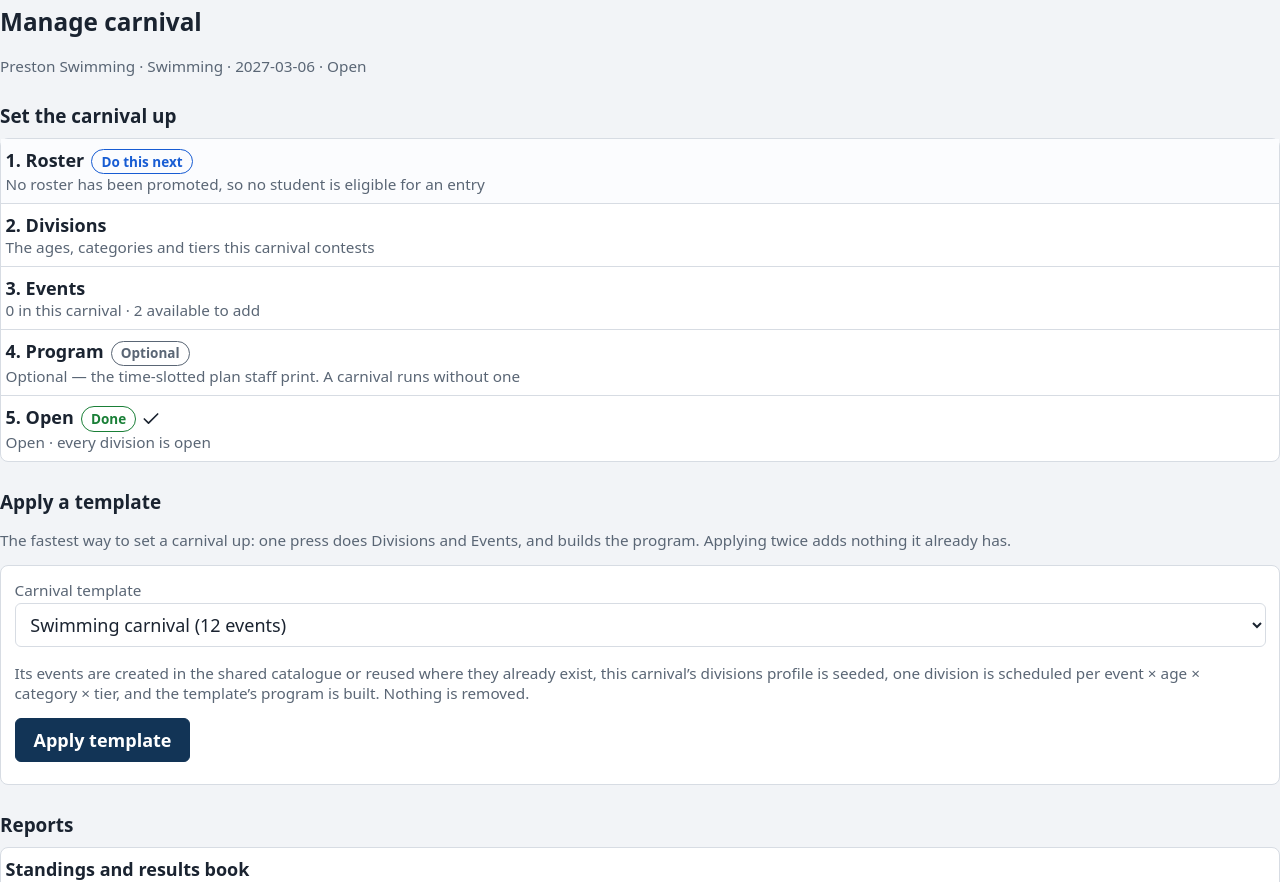
Test case: ManageScreen › applies the chosen template to the carnival and reports what it did
Expected: the dropdown labelled "Carnival template" is shown, [14,603,1266,647]
Click the button "Apply template": (102, 740) [14,718,190,762]
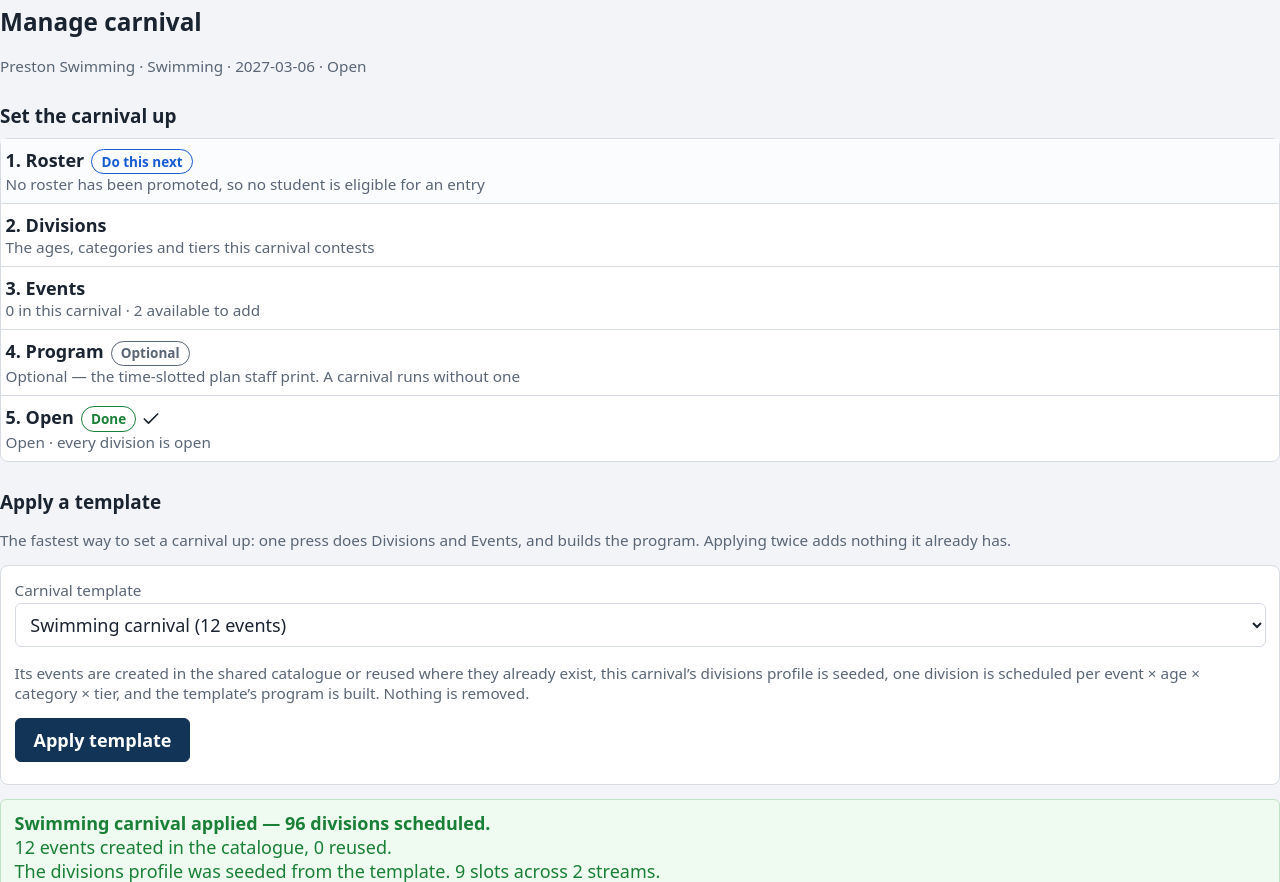
Now the text "Swimming carnival applied — 96 divisions scheduled." is shown, box [14,811,490,835]
